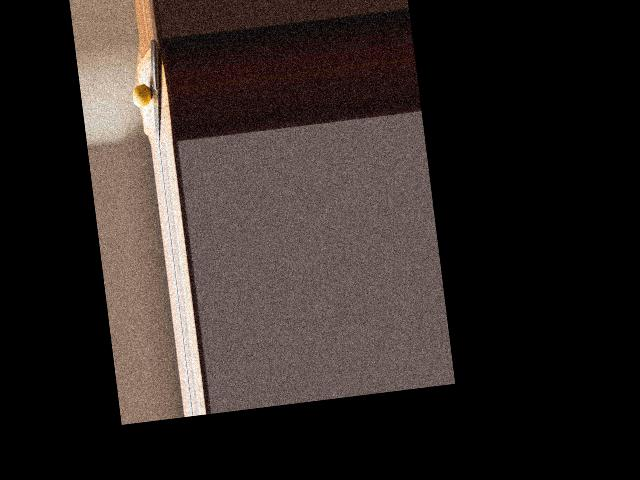lemon: (129, 81, 152, 109)
